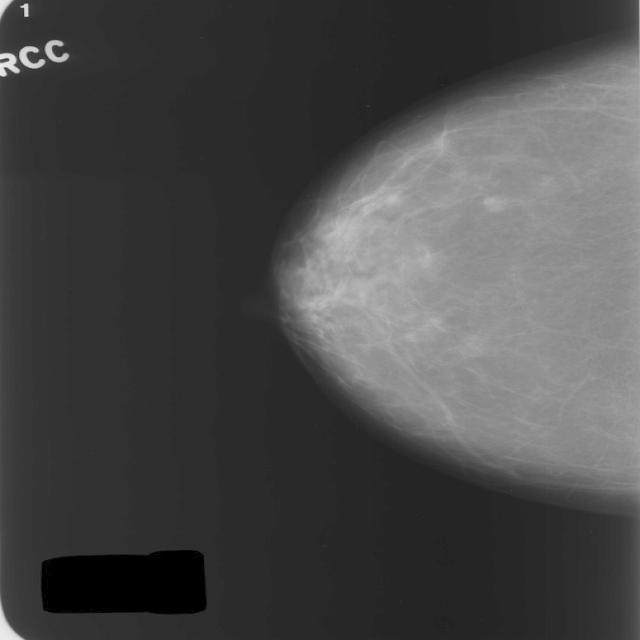tumour: (480, 193, 506, 213)
